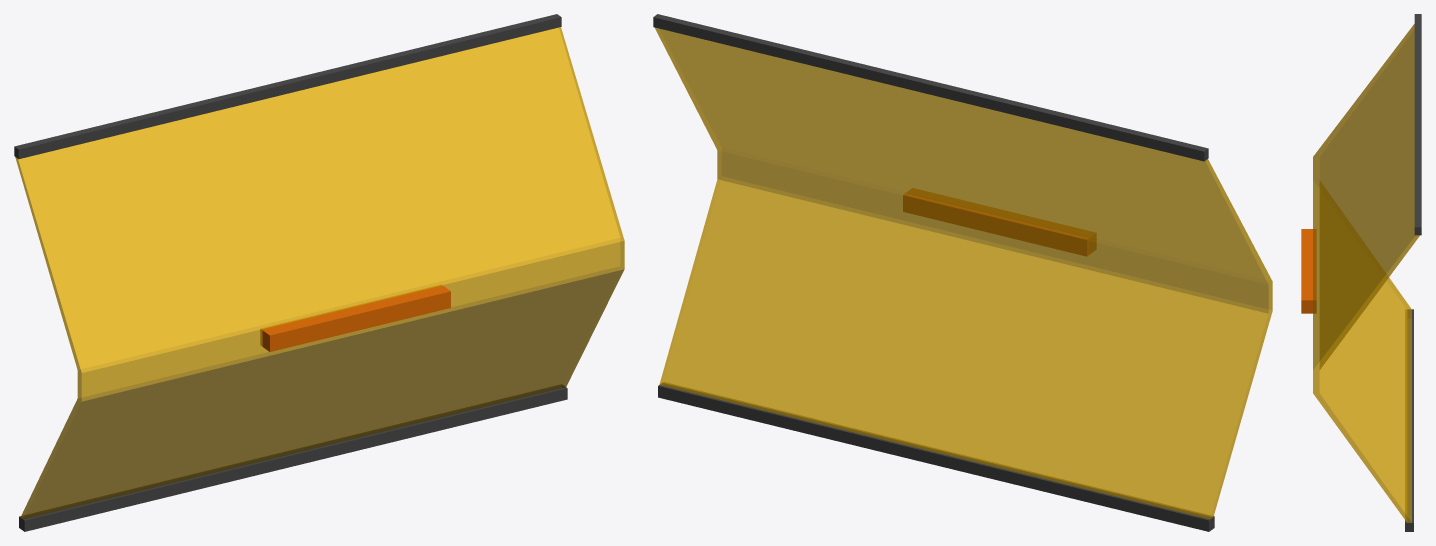
The model's file is Shield_Square1.fbx.
3 views of the same model, side by side, from view 1: azimuth 30°, elevation 25°; view 2: azimuth 150°, elevation 25°; view 3: azimuth 270°, elevation 25° (orthographic). The views are drawn at different scales.
Visible parts, largest first — view 1: polySurface2; view 2: polySurface2; view 3: polySurface2.
Part boxes in pixels (bbox=[...]): polySurface2: bbox=[14, 14, 624, 531]; polySurface2: bbox=[653, 14, 1272, 531]; polySurface2: bbox=[1301, 14, 1421, 531].
Bounding box in the file's own units: 3.18 × 2.12 × 0.7576.
